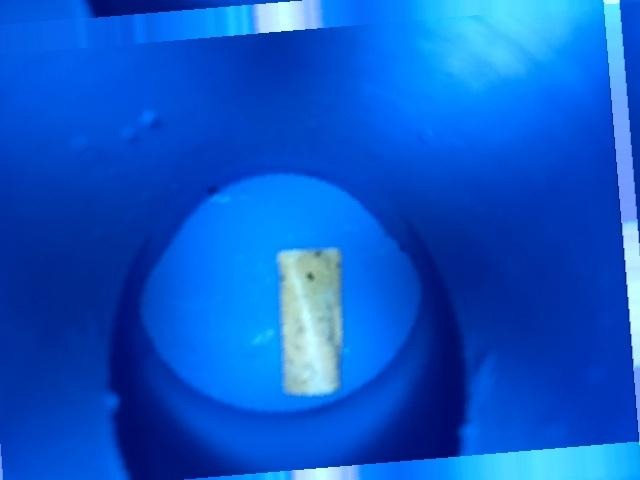megot: (257, 237, 355, 407)
